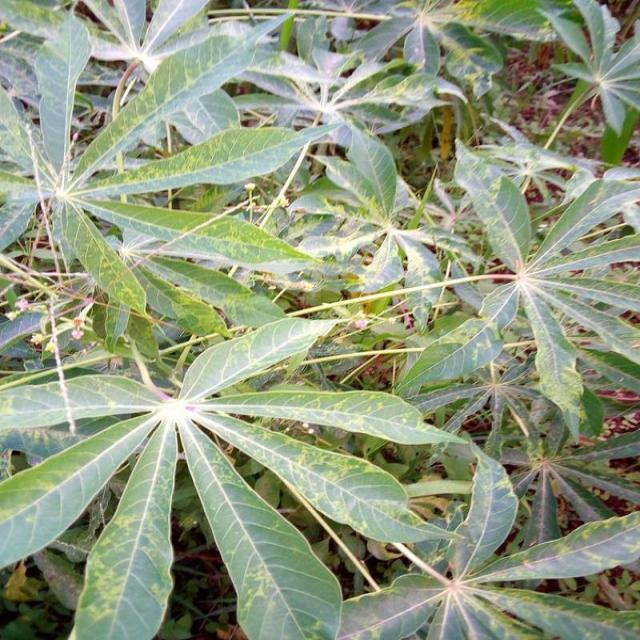cassava leaf: (0, 0, 638, 638), (0, 315, 469, 638)
